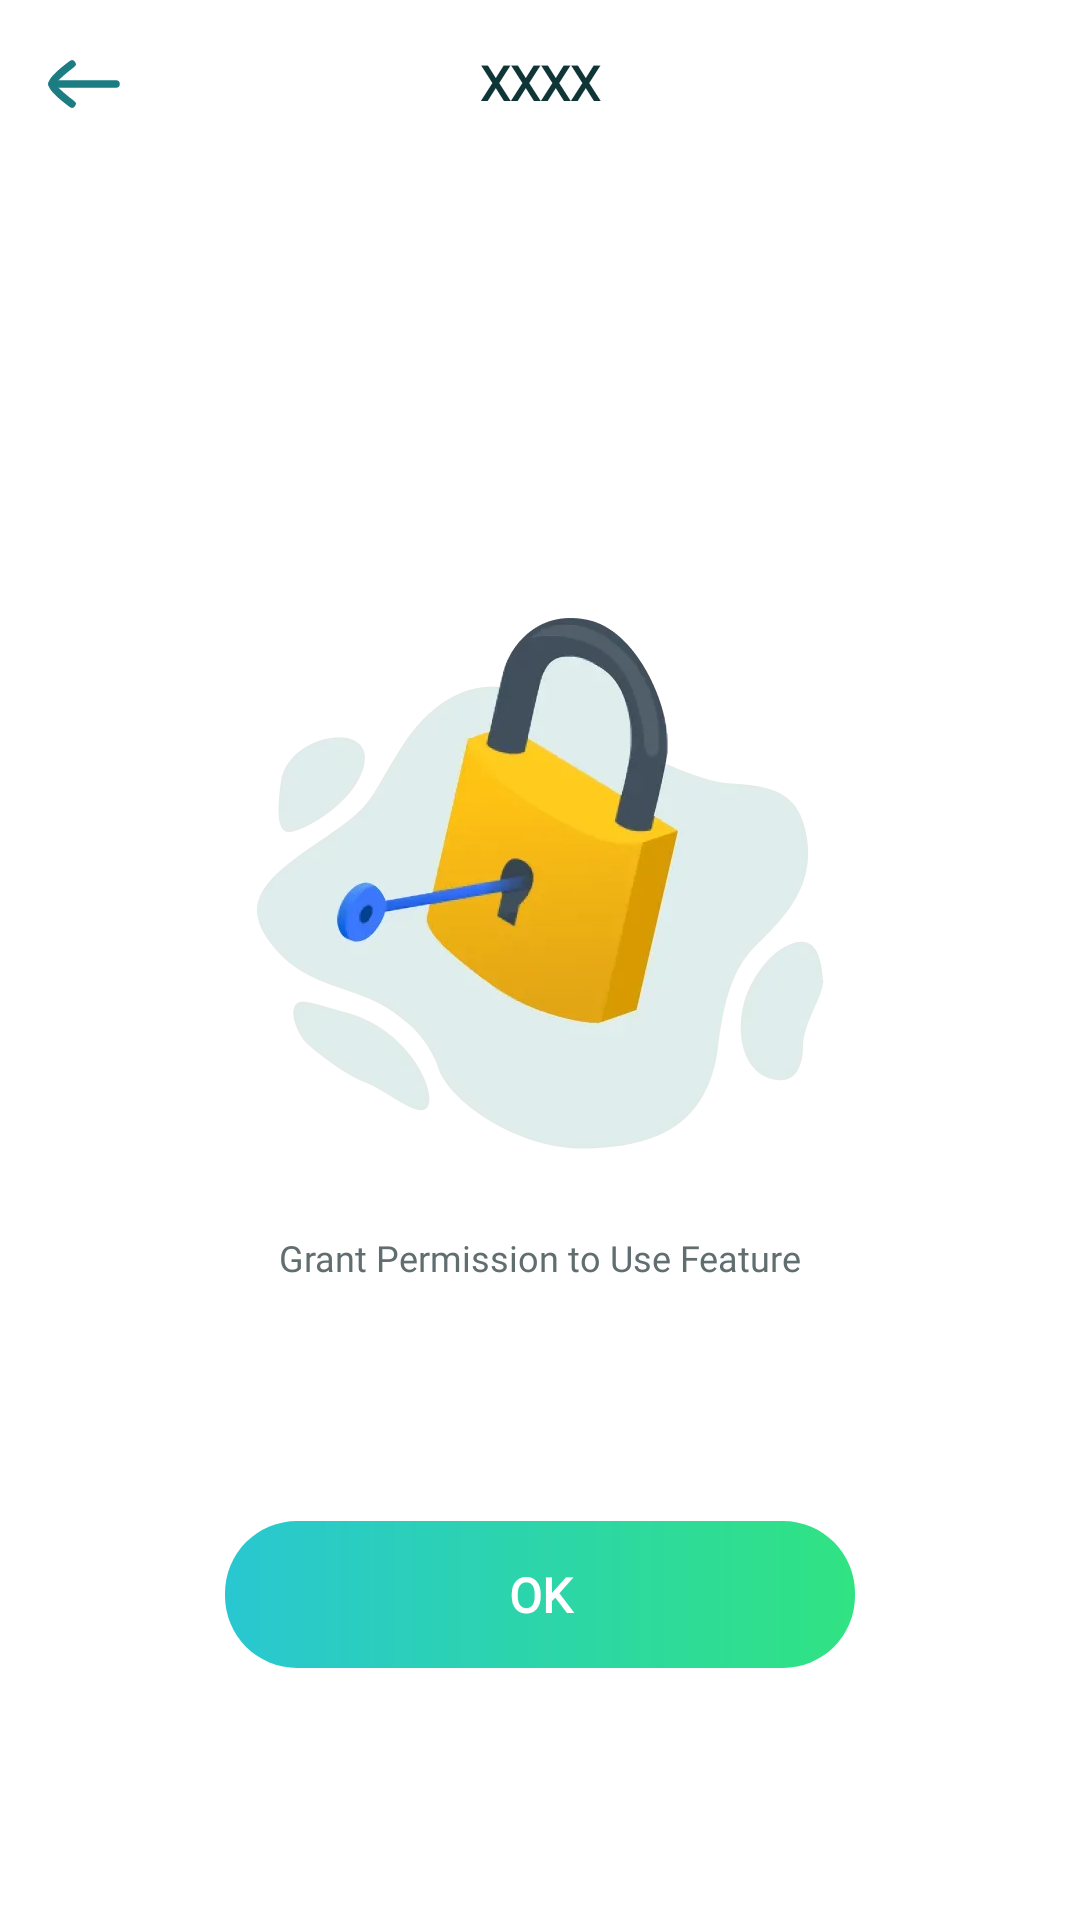

Screen size 1080px×1920px. Icon name, then its center in pixels as (x=x, y=y):
back: (x=84, y=84)
